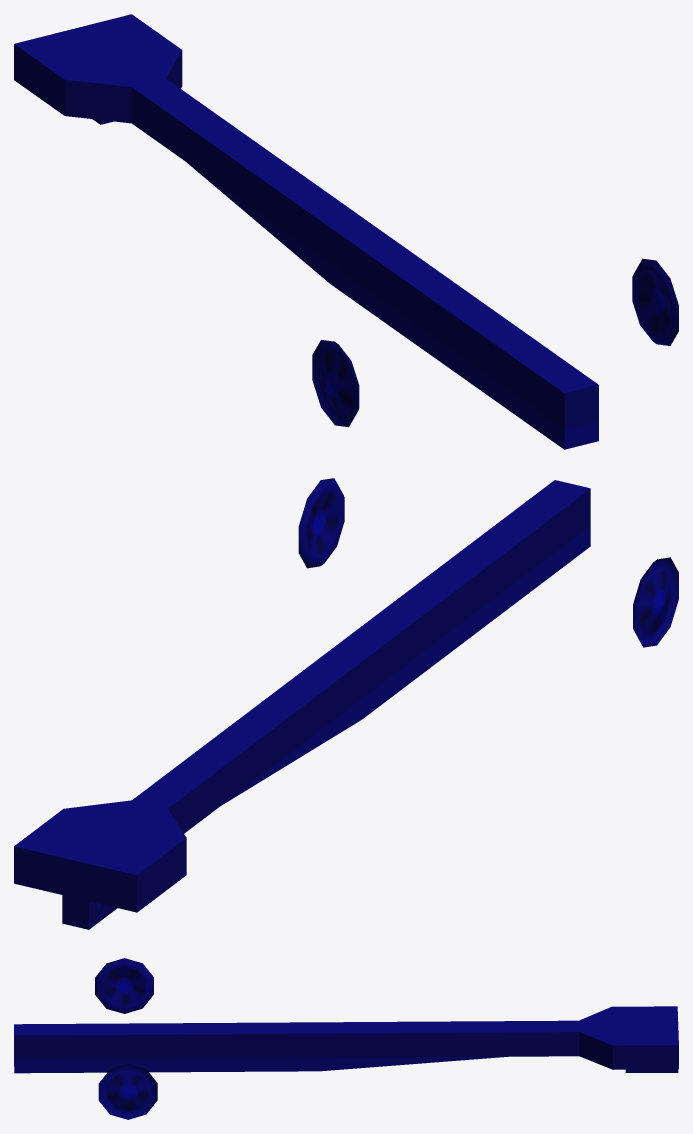
The model's file is refl.049.fbx.
The picture shows the model from 3 angles, top to bottom: view 1: azimuth 30°, elevation 25°; view 2: azimuth 150°, elevation 25°; view 3: azimuth 270°, elevation 25°; orthographic projection. The views are drawn at different scales.
Visible parts, largest first — view 1: refl.049; view 2: refl.049; view 3: refl.049.
Boxes of the visible parts, x1,y1,x2,y2 form: refl.049: (14, 14, 678, 449); refl.049: (14, 478, 678, 929); refl.049: (14, 958, 678, 1119).
Bounding box in the file's own units: 604 × 234 × 61.25.
